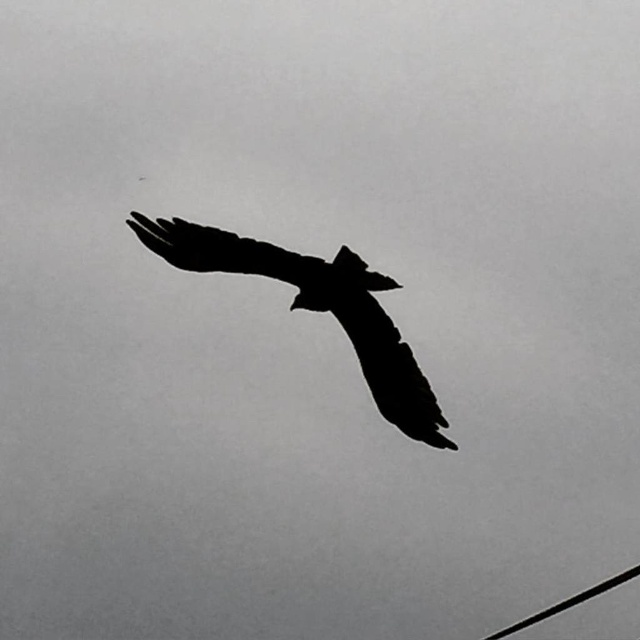Eagle: (126, 208, 460, 453)
